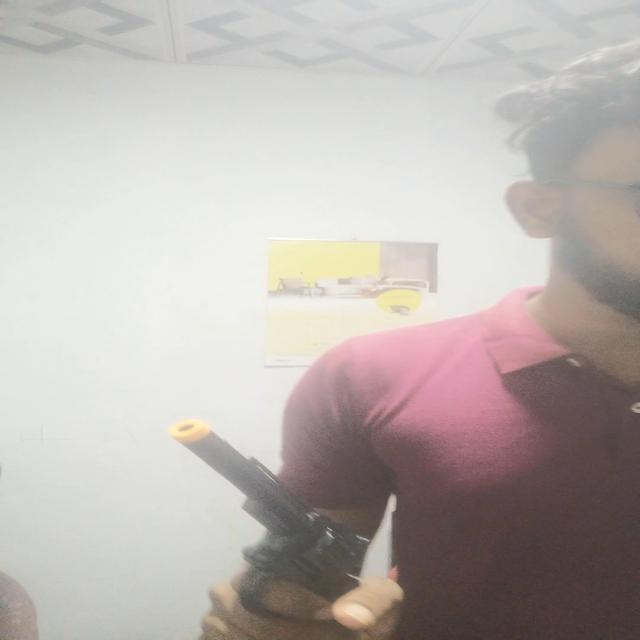Gun_Holder: (152, 411, 386, 635)
Person: (235, 44, 640, 640)
